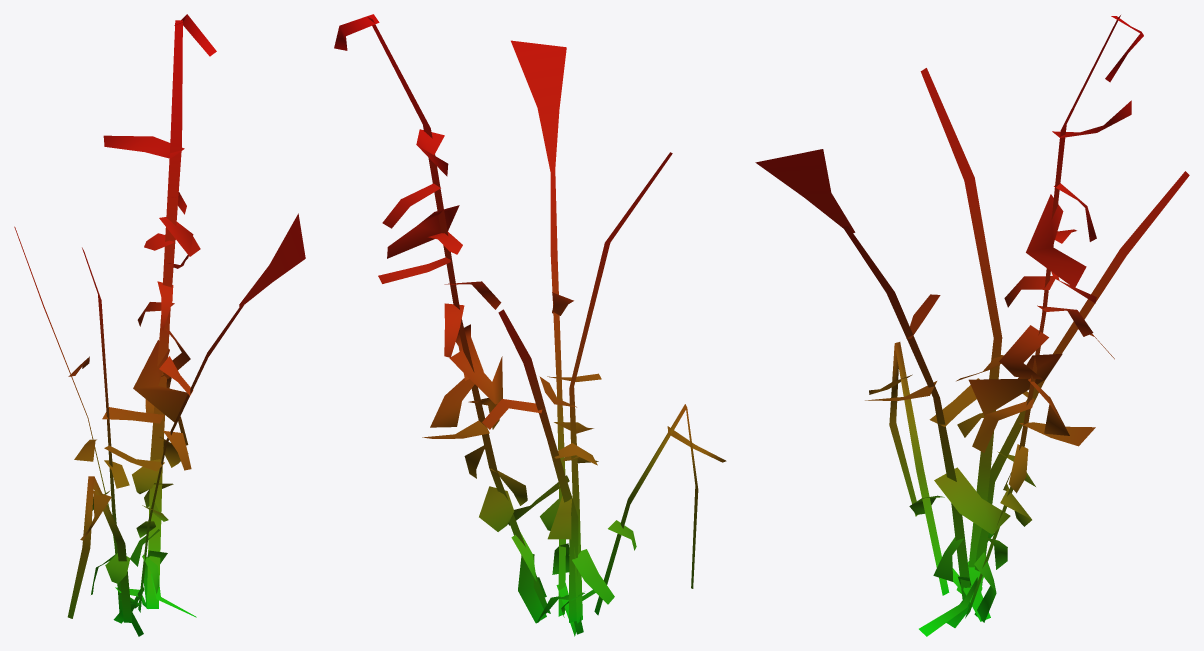
File: Willowherb_LOD3_Var4_tbfpbbhr.fbx
3 views of the same model, side by side, from view 1: azimuth 30°, elevation 25°; view 2: azimuth 150°, elevation 25°; view 3: azimuth 270°, elevation 25° (orthographic). The views are drawn at different scales.
Parts seen in each view (by area): view 1: _8da6_Var4_LOD3; view 2: _8da6_Var4_LOD3; view 3: _8da6_Var4_LOD3.
Boxes of the visible parts, x1=… form: _8da6_Var4_LOD3: x1=14, y1=14, x2=305, y2=636; _8da6_Var4_LOD3: x1=334, y1=14, x2=726, y2=636; _8da6_Var4_LOD3: x1=755, y1=15, x2=1189, y2=636.
Bounding box in the file's own units: 7.91 × 17.58 × 10.21.
